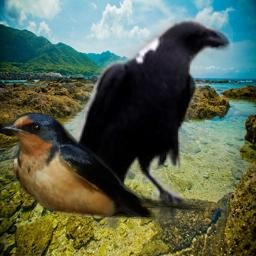Crow: (38, 15, 233, 238)
Swallow: (1, 113, 213, 219)
